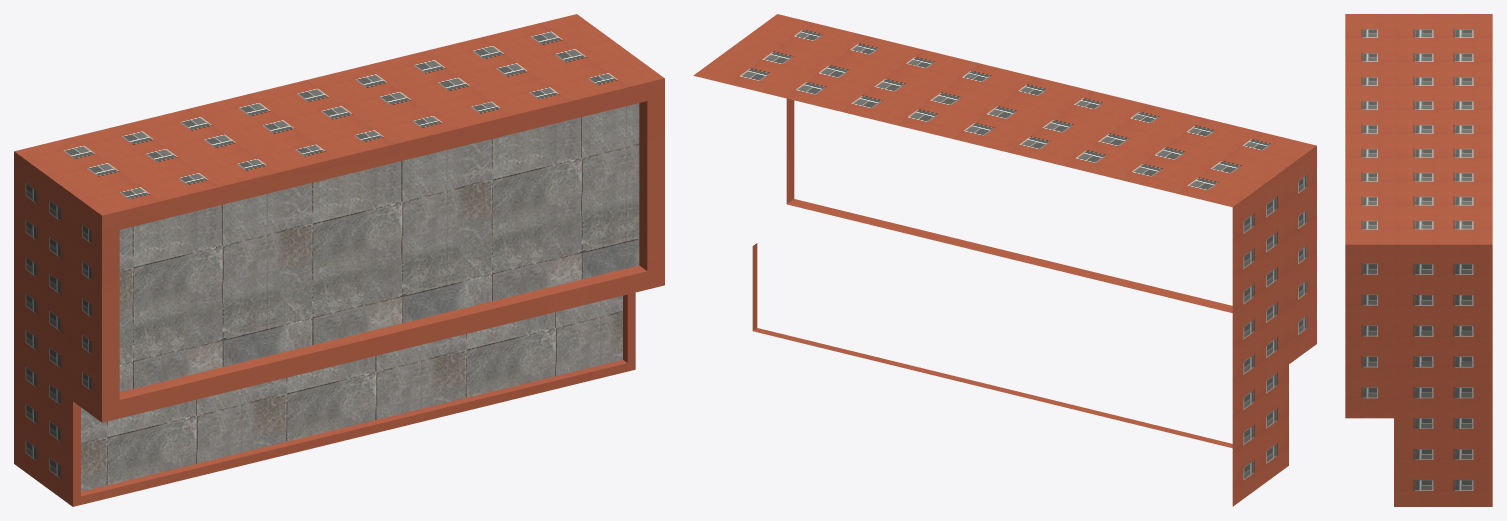
Rendered from sgy_jt_01.gltf.
3 views of the same model, side by side, from view 1: azimuth 30°, elevation 25°; view 2: azimuth 150°, elevation 25°; view 3: azimuth 270°, elevation 25° (orthographic). The views are drawn at different scales.
Visible parts, largest first — view 1: Box001; view 2: Box001; view 3: Box001.
Boxes of the visible parts, <box> form: Box001: <box>14,14,664,506</box>; Box001: <box>693,14,1316,506</box>; Box001: <box>1345,14,1492,506</box>.
Bounding box in the file's own units: 71.71 × 38.06 × 19.4.
Materials: 3 (3 with a texture image).
